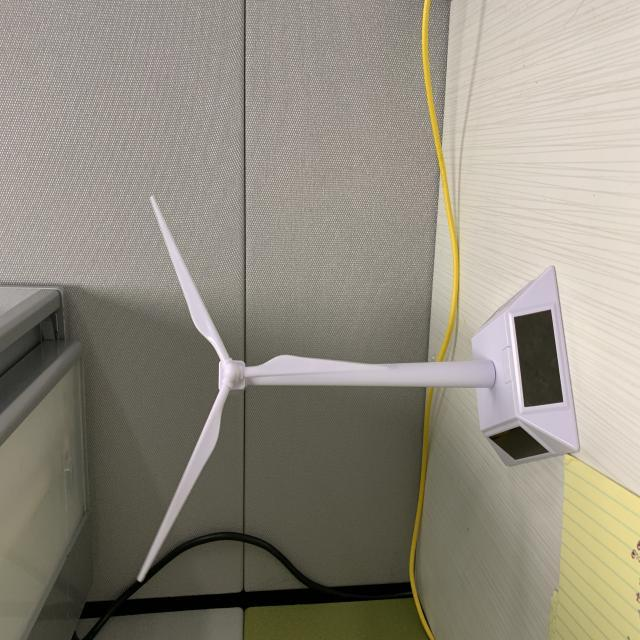solid-blade: (138, 380, 230, 579), (150, 196, 230, 361)
